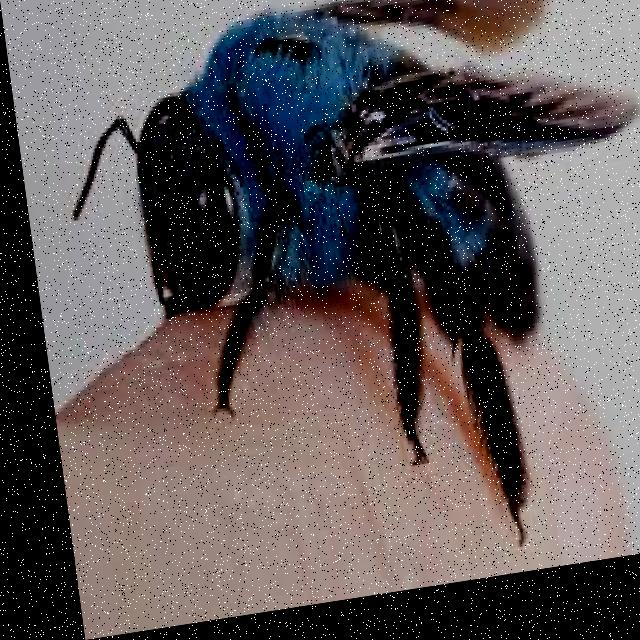Xylocopa: (62, 0, 612, 564)
